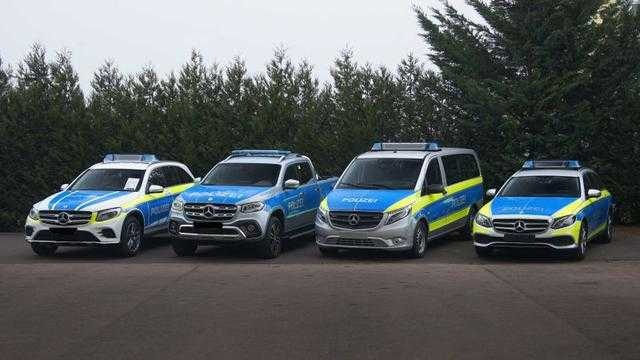Police Car: (333, 132, 472, 283), (38, 124, 176, 264), (195, 138, 315, 252), (499, 150, 619, 260)
